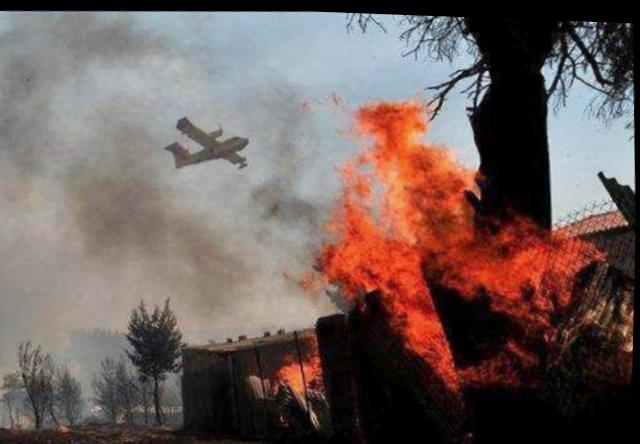fire: (316, 85, 597, 401), (274, 352, 325, 405)
